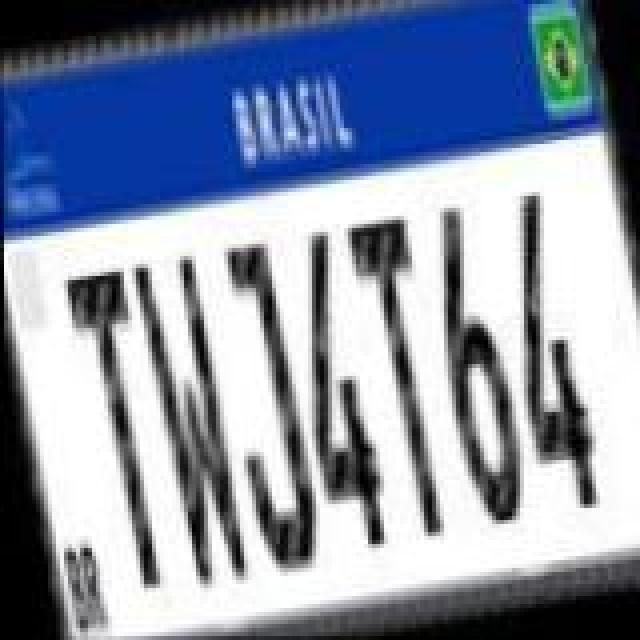4: (274, 222, 394, 558), (484, 180, 604, 516)
6: (414, 202, 538, 534)
J: (200, 236, 324, 580)
T: (60, 268, 180, 604), (346, 212, 466, 548)
W: (128, 244, 252, 588)
